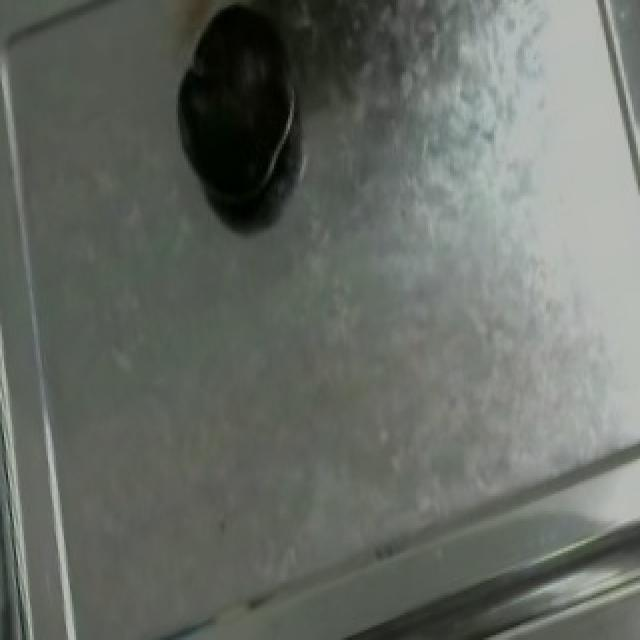Fruit: (168, 0, 300, 216)
